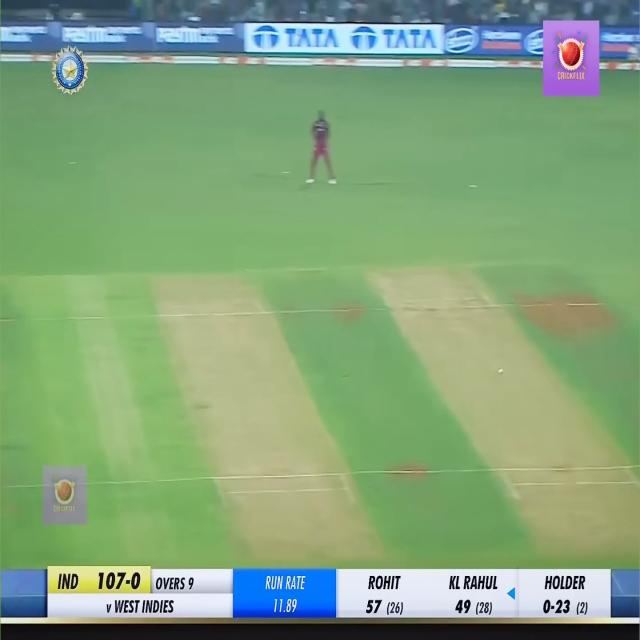partially_visible: (154, 22, 201, 56), (57, 21, 108, 51)
